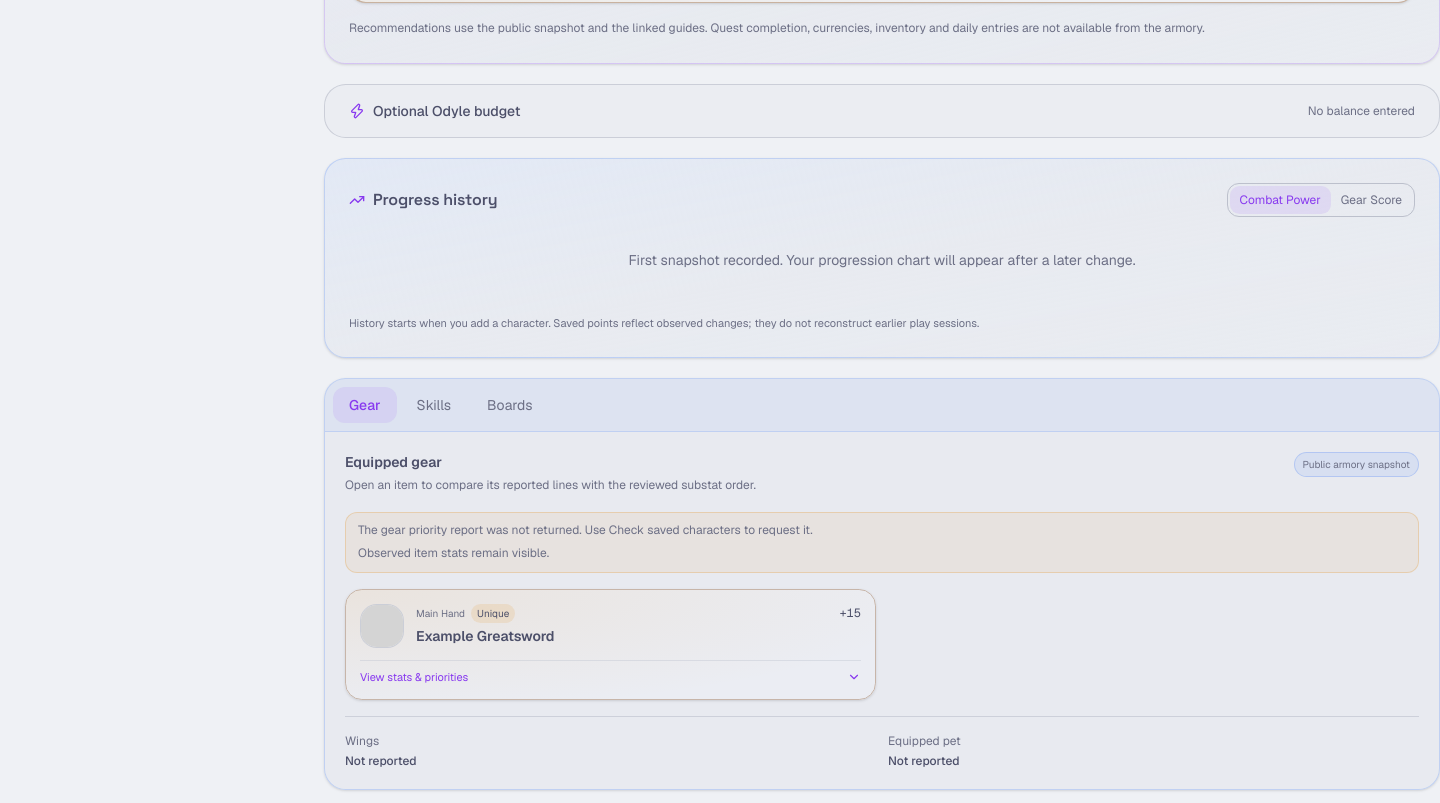
Test: renders observed metrics, evidence, skills and a one-point history without invented earlier values
The width and height of the screenshot is (1440, 803).
(page scrolled)
Check: the text "First snapshot recorded" is shown, box [628,250,1136,268]
Click the button "skills" at (434, 405), box [401,387,467,423]
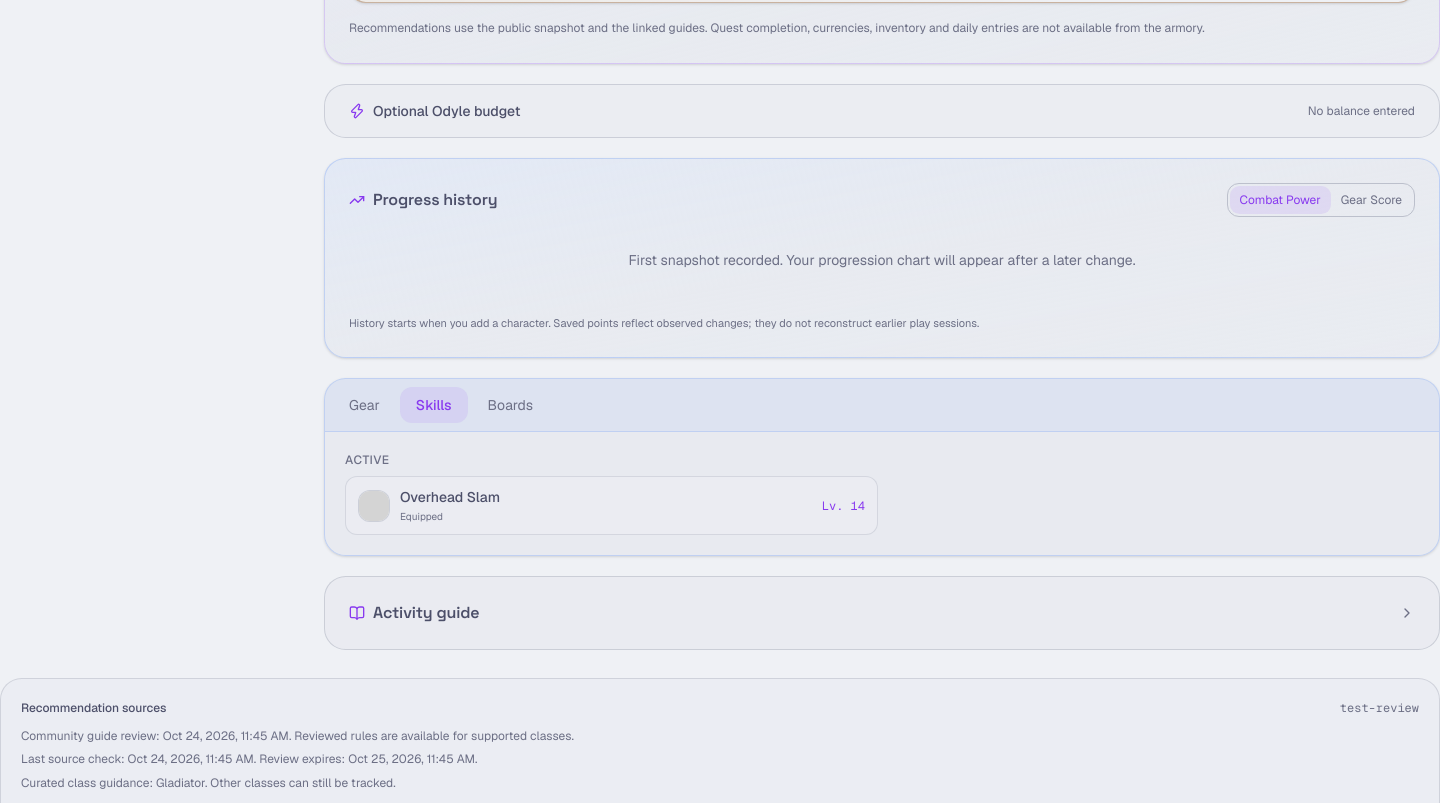
Check: the text "Quest completion, currencies, inventory and daily entries are not available" is shown, box [349,20,1205,36]
Check: the text "Overhead Slam" is shown, box [400,487,500,507]
Check: the text "Lv. 14" is shown, box [822,498,865,514]
